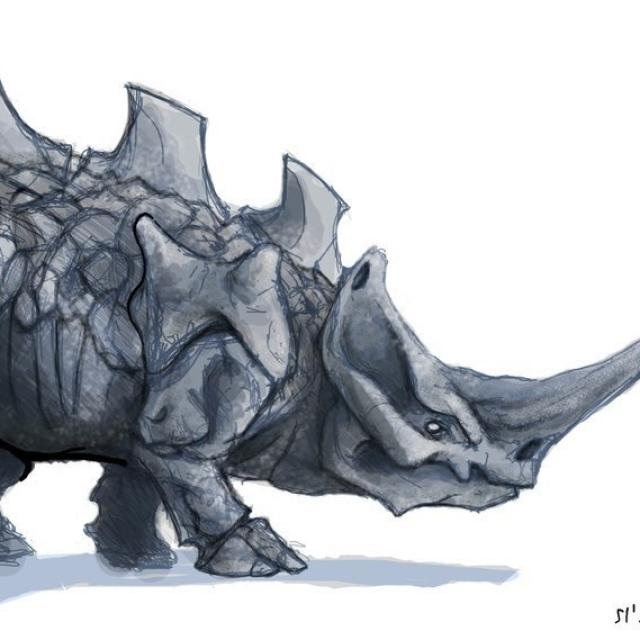Rhyhorn: (0, 77, 548, 580)
